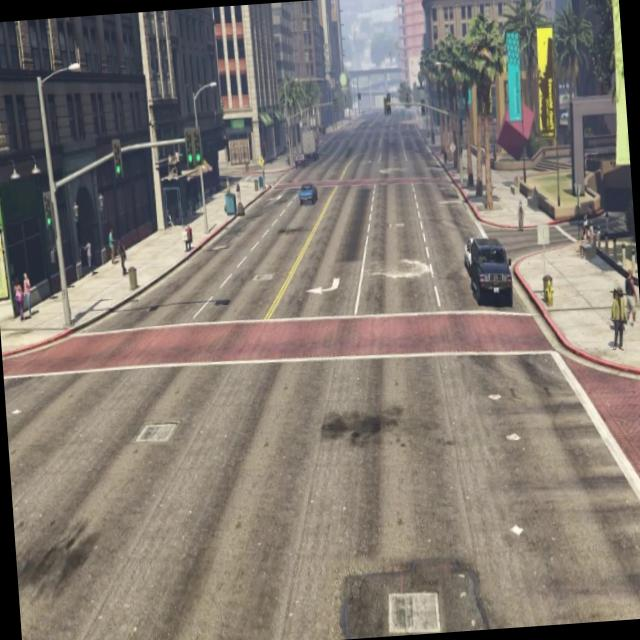Green-Signal: (177, 118, 204, 181), (36, 175, 58, 248), (106, 132, 131, 187)
